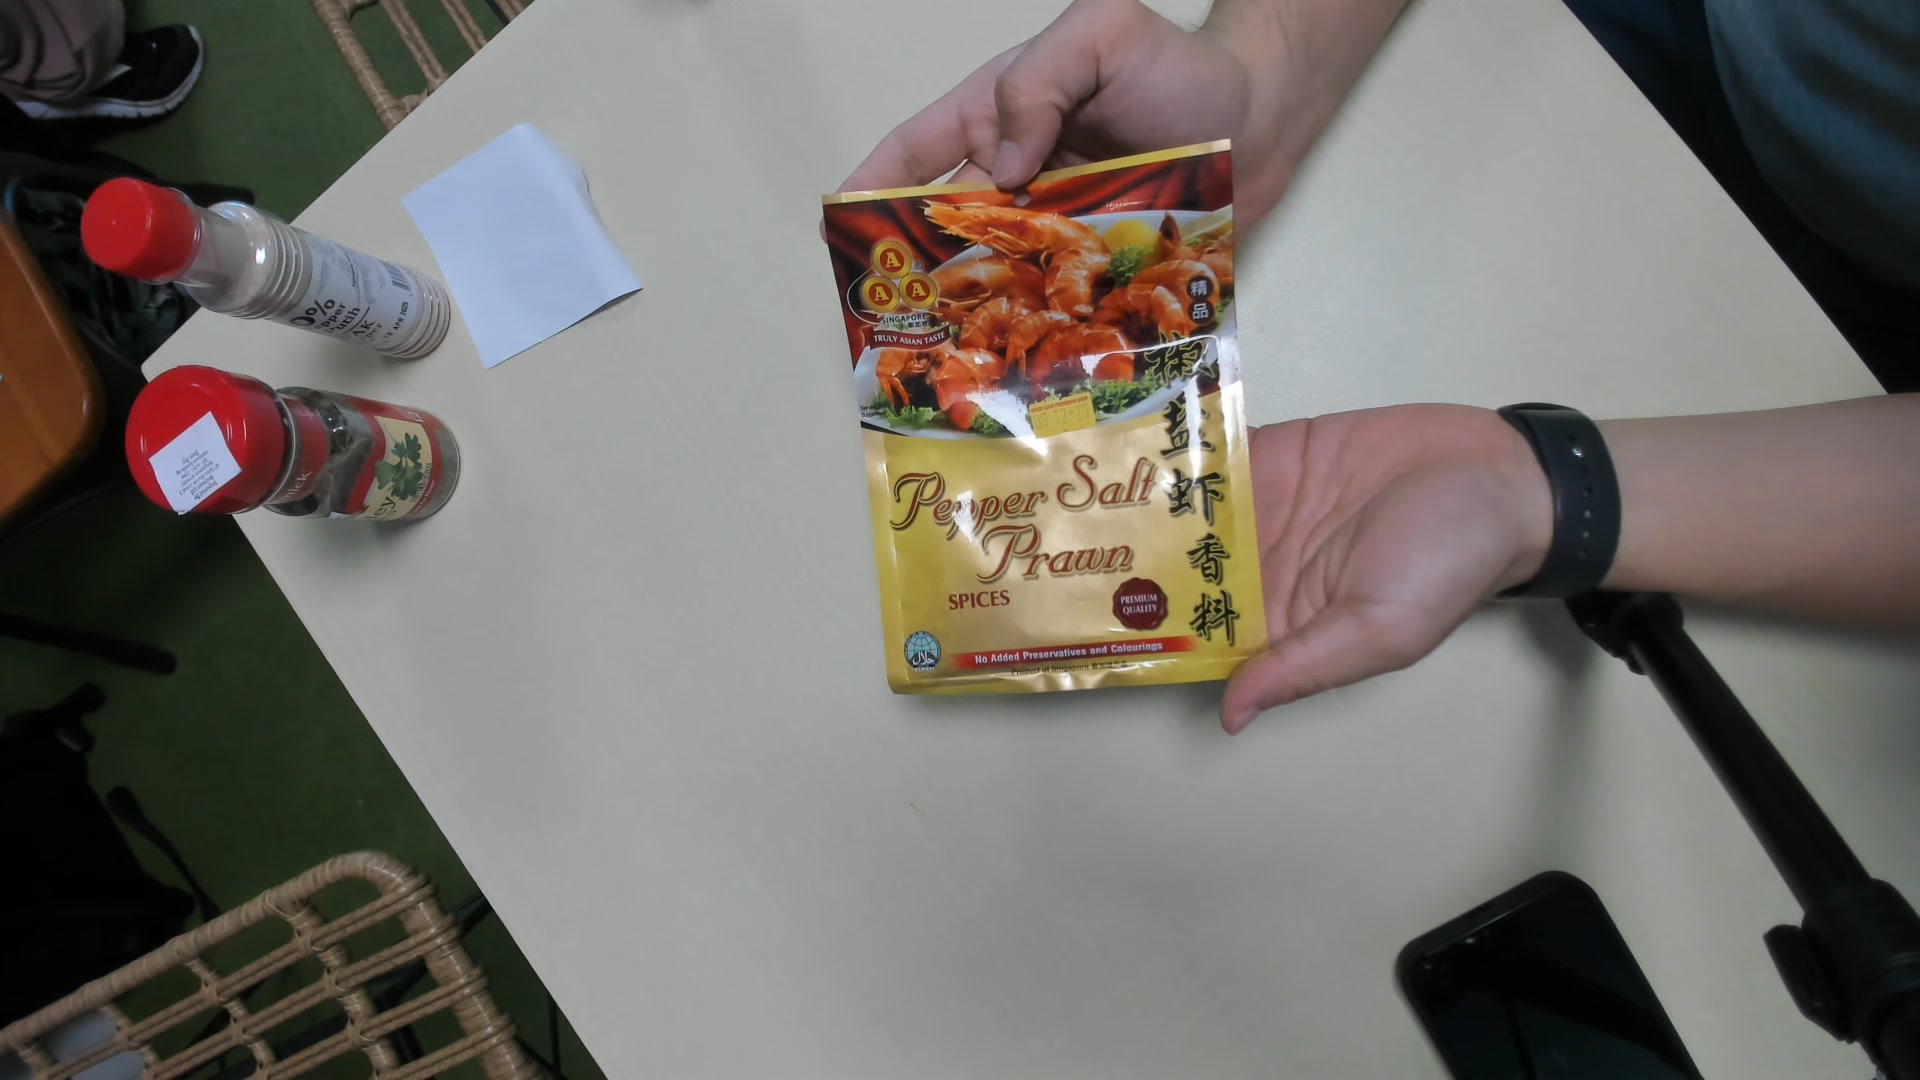HerbsSpicesPepper_400-499g_Halal_NonHealthy: (833, 145, 1271, 705)
